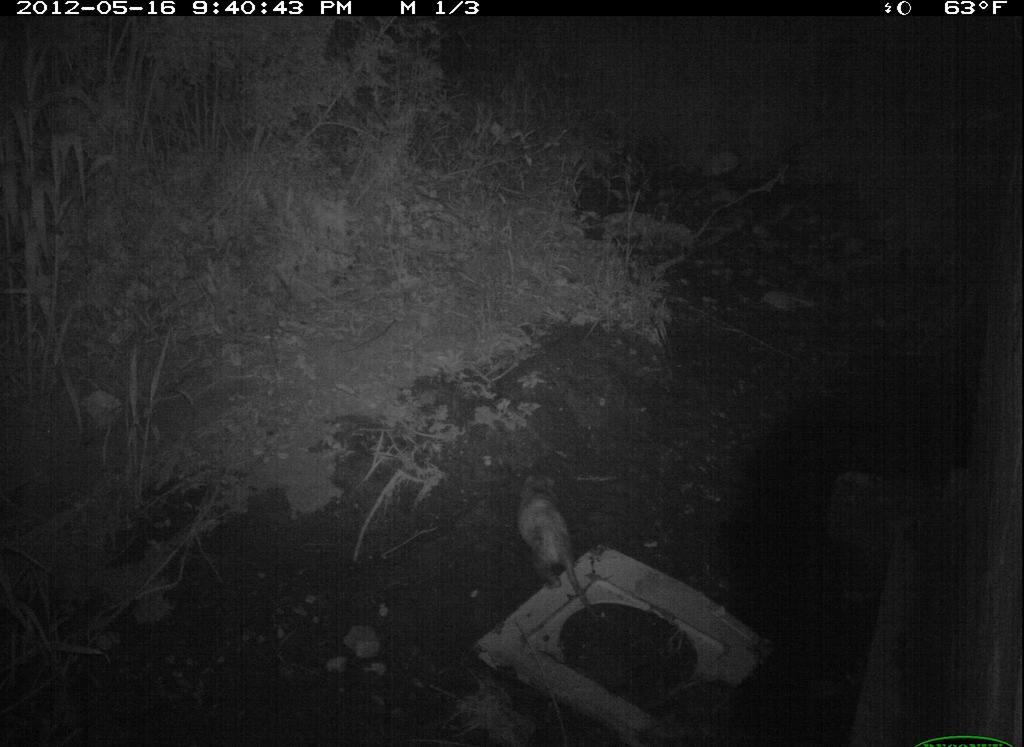opossum: (505, 465, 610, 629)
